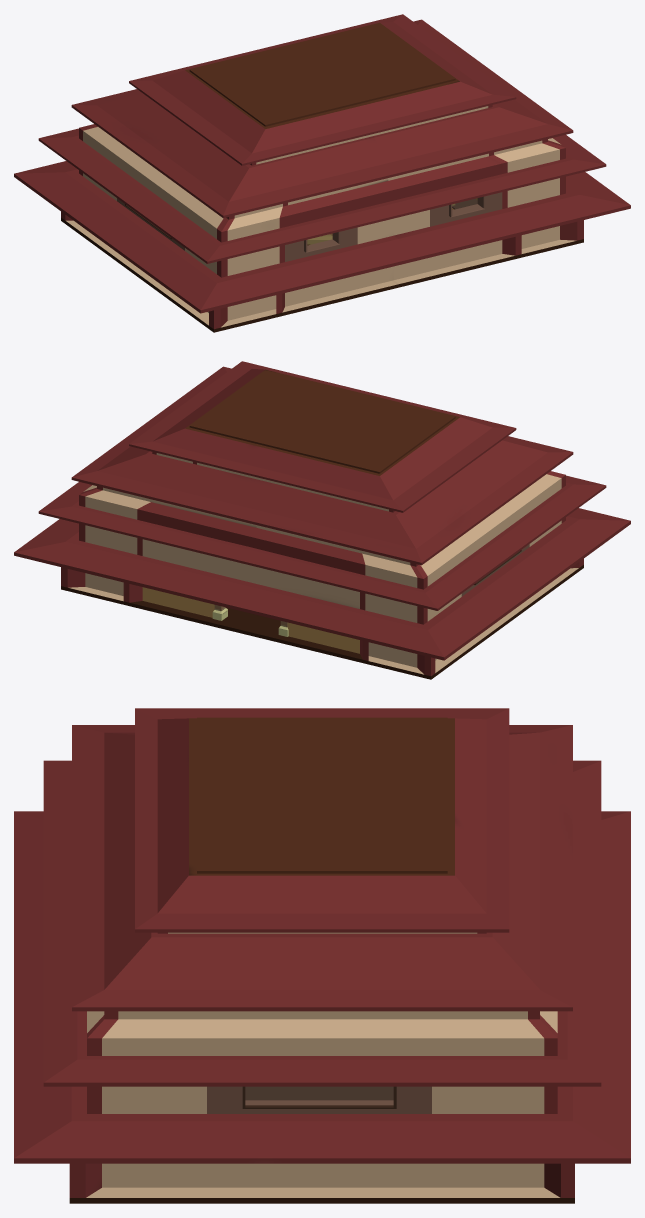
Rendered from Big.fbx.
3 renders of one model, top to bottom at view 1: azimuth 30°, elevation 25°; view 2: azimuth 150°, elevation 25°; view 3: azimuth 270°, elevation 25°, orthographic. The views are drawn at different scales.
Visible parts, largest first — view 1: 1, 4, 2, 3; view 2: 1, 4, 2, 3; view 3: 4, 1, 3, 2, Cube.012.
Boxes of the visible parts, x1,y1,x2,y2 form: 1: [14, 161, 630, 332]; 4: [129, 14, 516, 165]; 2: [38, 124, 606, 277]; 3: [71, 19, 573, 219]; 1: [14, 508, 630, 679]; 4: [129, 361, 516, 512]; 2: [38, 471, 606, 624]; 3: [71, 366, 573, 566]; 4: [135, 708, 509, 933]; 1: [14, 811, 630, 1203]; 3: [72, 725, 572, 1019]; 2: [43, 760, 601, 1113]; Cube.012: [245, 1086, 393, 1100].
Bounding box in the file's own units: 27448 × 9595 × 20621.
Materials: 8 (8 with a texture image).
